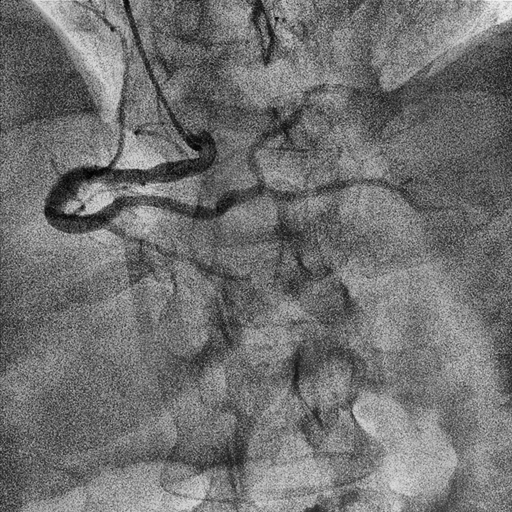pborca: (247, 85, 318, 183)
pda: (263, 177, 471, 212)
rca: (45, 131, 261, 234)
